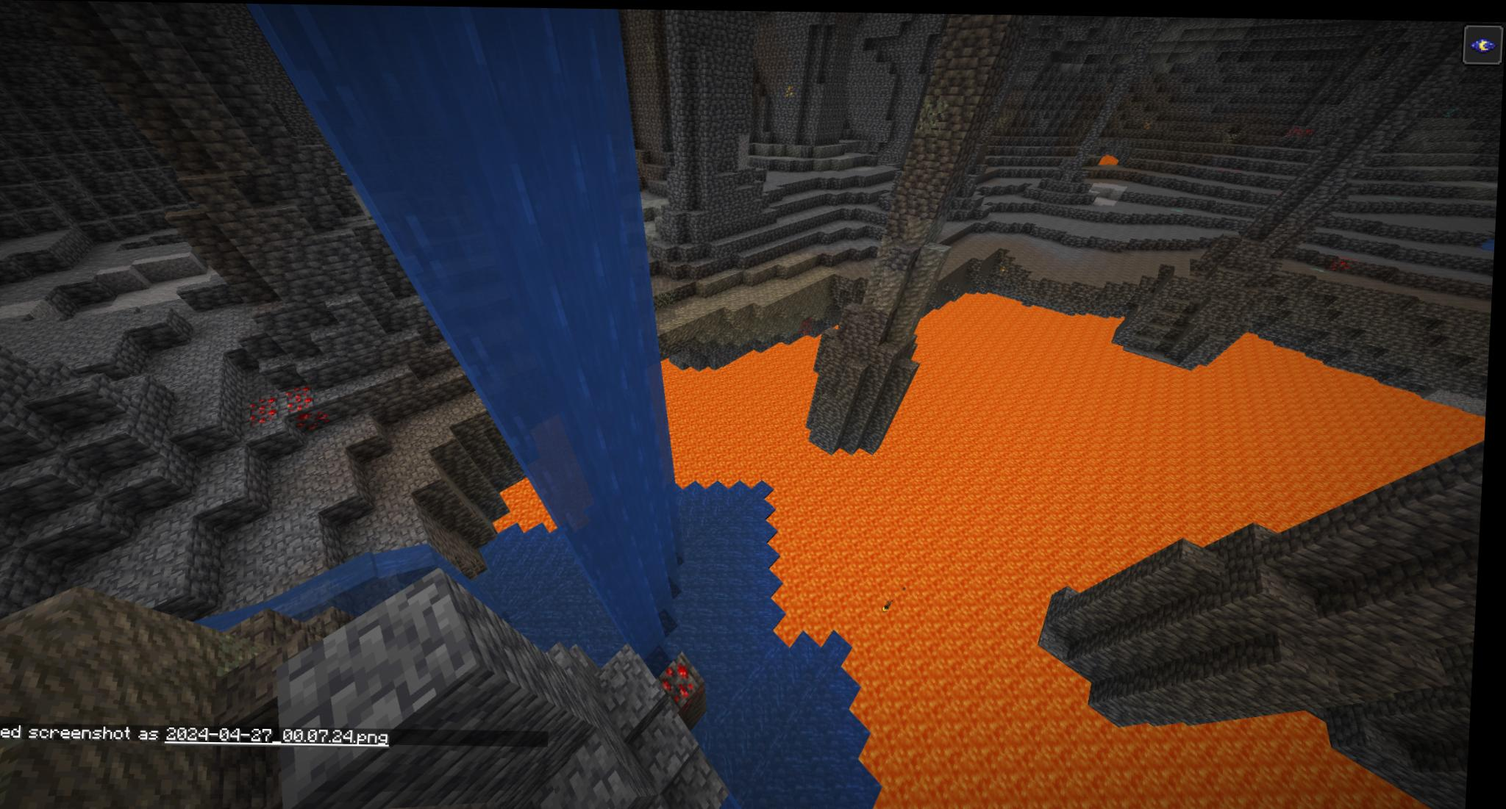gold ore: (781, 77, 798, 100)
redstone ore: (254, 385, 327, 429), (668, 649, 711, 707)
